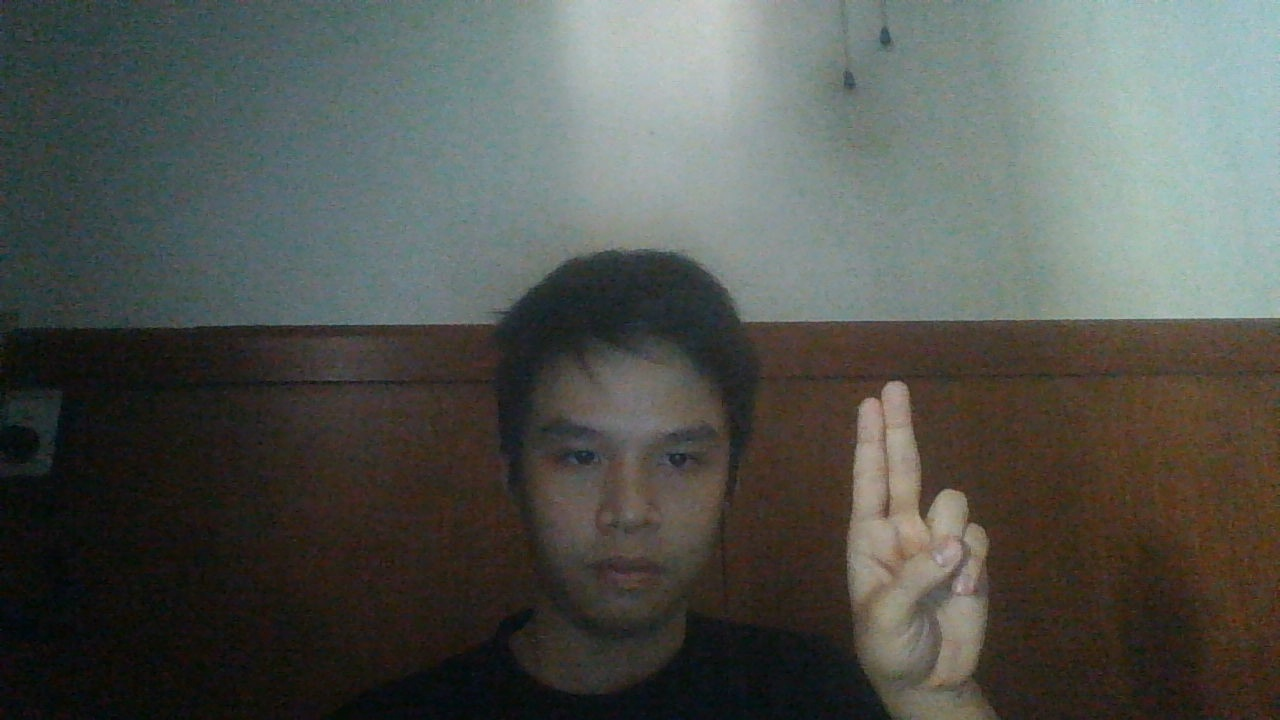write2: (842, 377, 990, 691)
